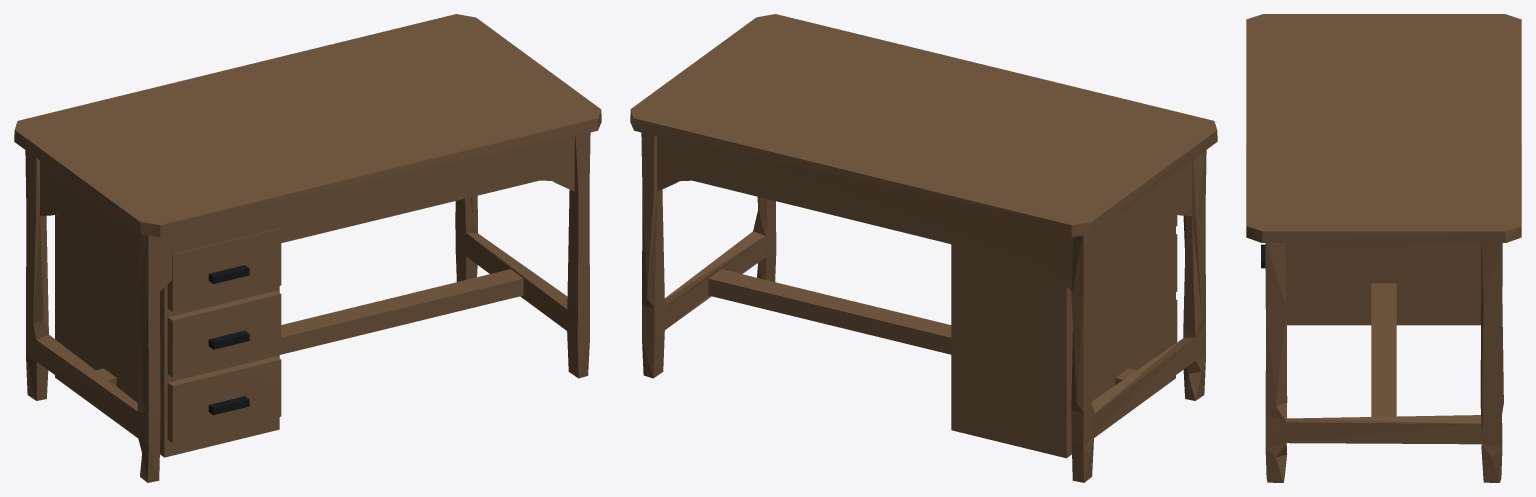
Rendered from office_desk.glb.
The picture shows the model from 3 angles, left to right: view 1: azimuth 30°, elevation 25°; view 2: azimuth 150°, elevation 25°; view 3: azimuth 270°, elevation 25°; orthographic projection. The views are drawn at different scales.
Parts seen in each view (by area): view 1: office_desk; view 2: office_desk; view 3: office_desk.
Part boxes in pixels (bbox=[...]): office_desk: bbox=[14, 14, 601, 482]; office_desk: bbox=[630, 14, 1217, 482]; office_desk: bbox=[1246, 14, 1521, 482].
Bounding box in the file's own units: 1.4 × 0.77 × 0.75.
